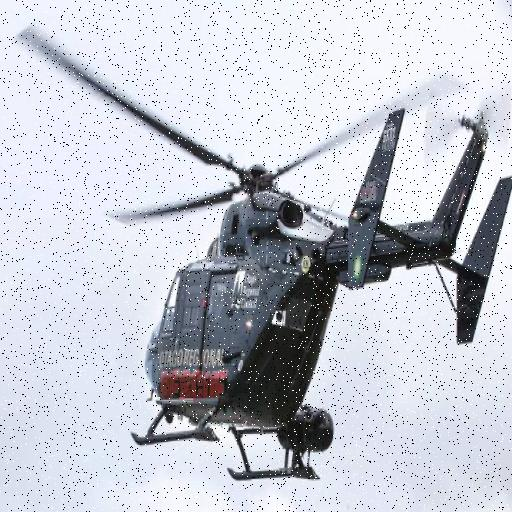helicopter: (17, 26, 512, 482)
